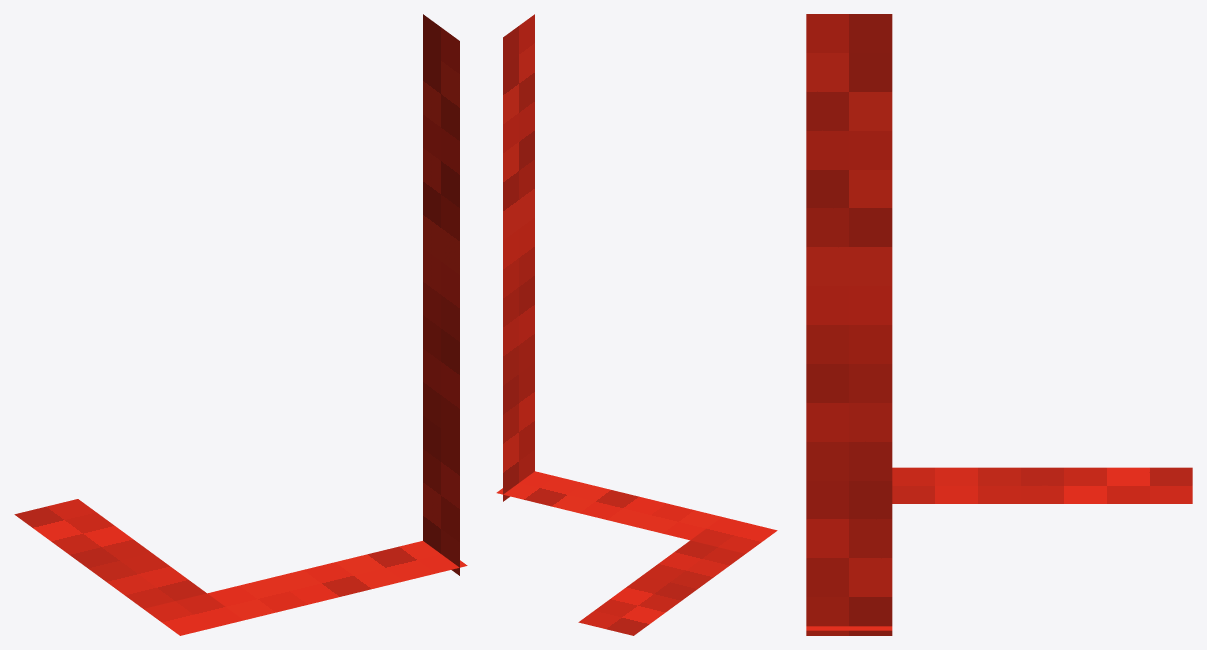
File: dust_on_2001.gltf
The picture shows the model from 3 angles, left to right: view 1: azimuth 30°, elevation 25°; view 2: azimuth 150°, elevation 25°; view 3: azimuth 270°, elevation 25°; orthographic projection. The views are drawn at different scales.
Parts seen in each view (by area): view 1: dust_on_2001; view 2: dust_on_2001; view 3: dust_on_2001.
Boxes of the visible parts, x1,y1,x2,y2 form: dust_on_2001: (14, 14, 467, 635); dust_on_2001: (496, 14, 777, 635); dust_on_2001: (806, 14, 1192, 635).
Size of the model in its own units: 0.5625 by 1 by 0.5625.
Materials: 1 (1 with a texture image).
